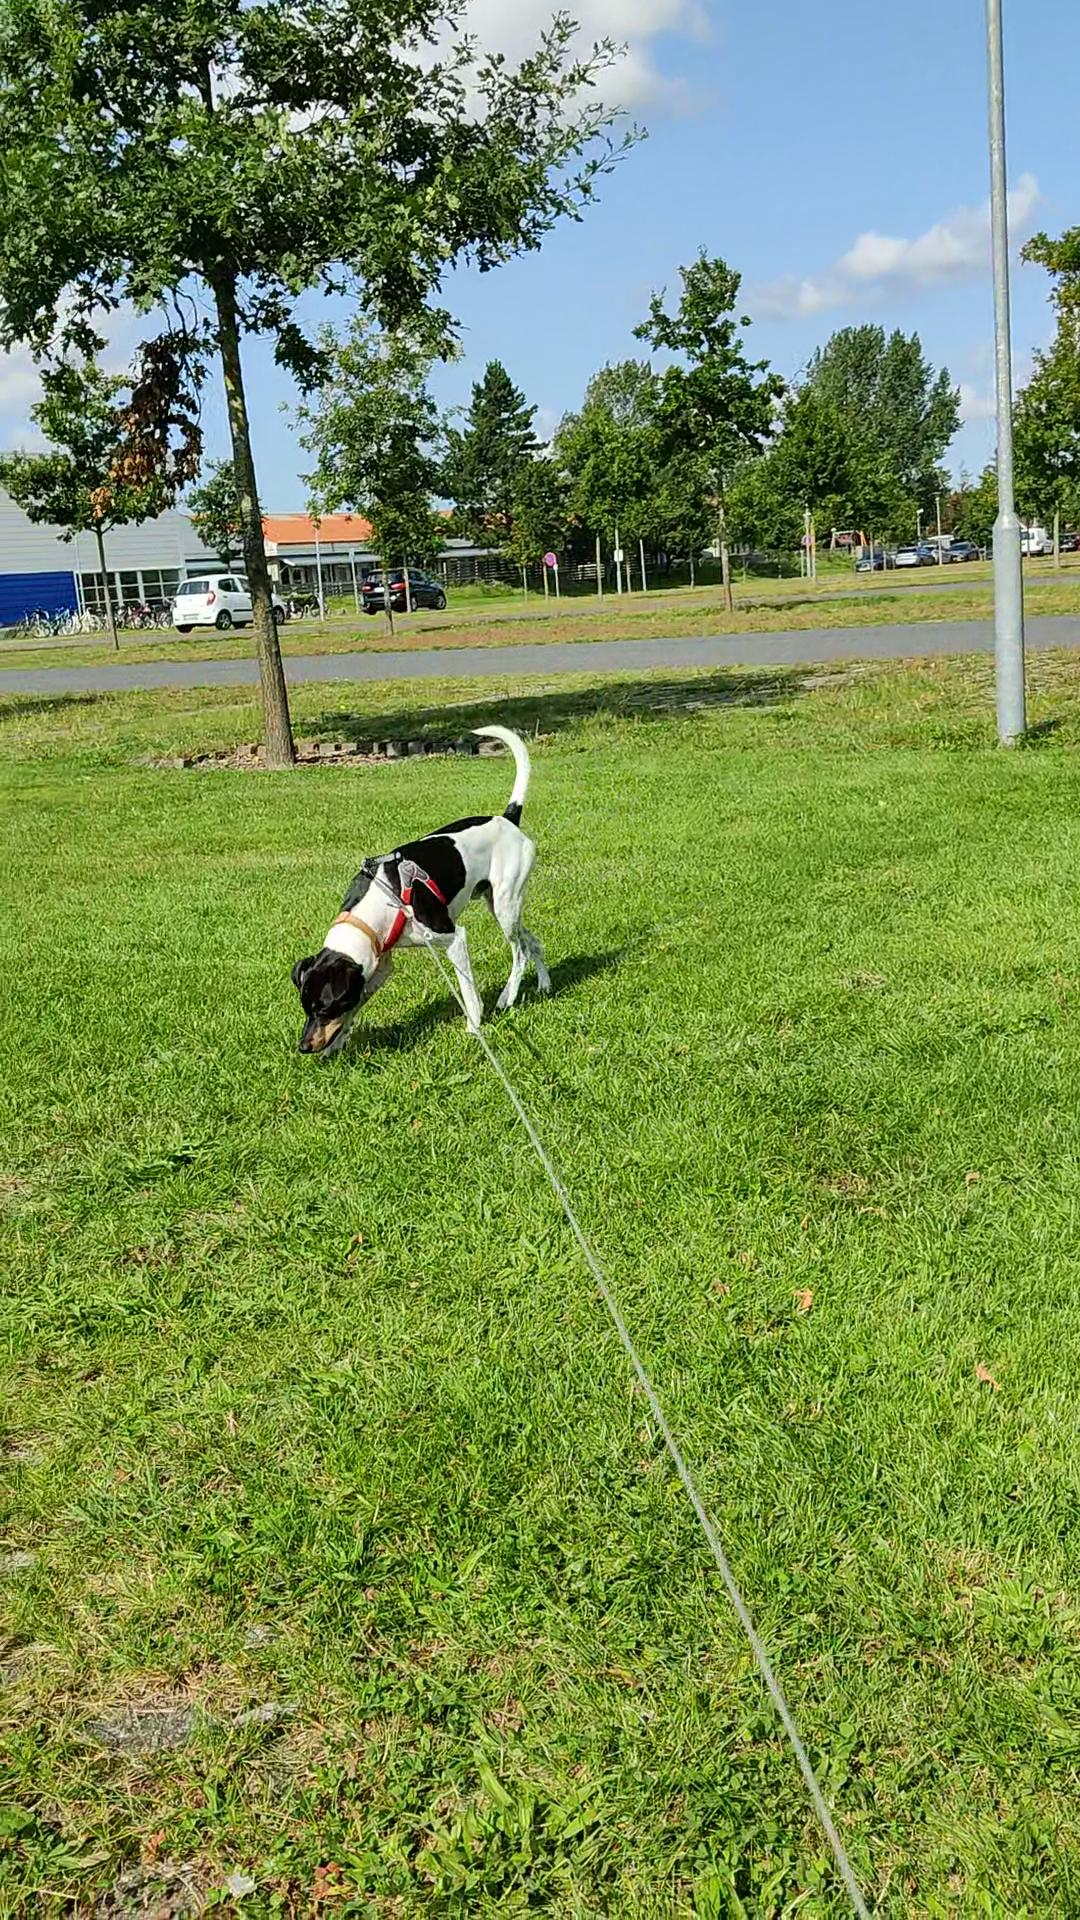Dog: (285, 723, 560, 1058)
